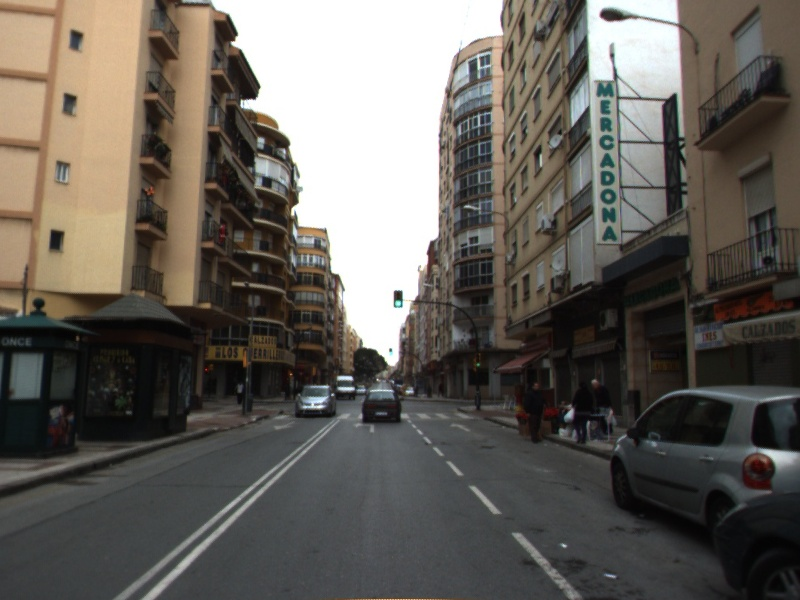LEFT: (351, 421, 376, 434)
STRAIGHT: (448, 421, 472, 433)
